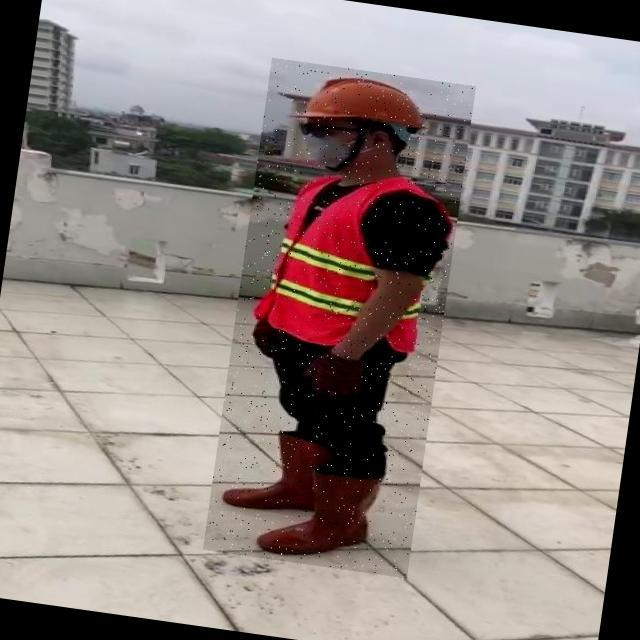Helmet: (292, 71, 434, 140)
Human: (204, 58, 477, 580)
Safety Boot: (259, 468, 382, 570), (218, 429, 335, 520)
Safety Vest: (253, 165, 450, 363)
